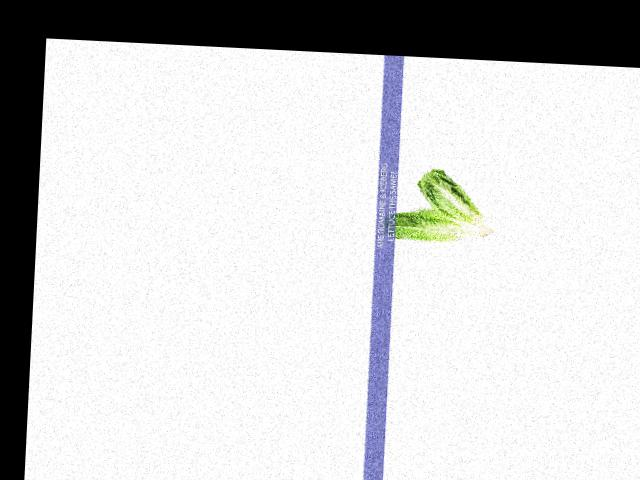lettuce: (410, 171, 505, 238)
